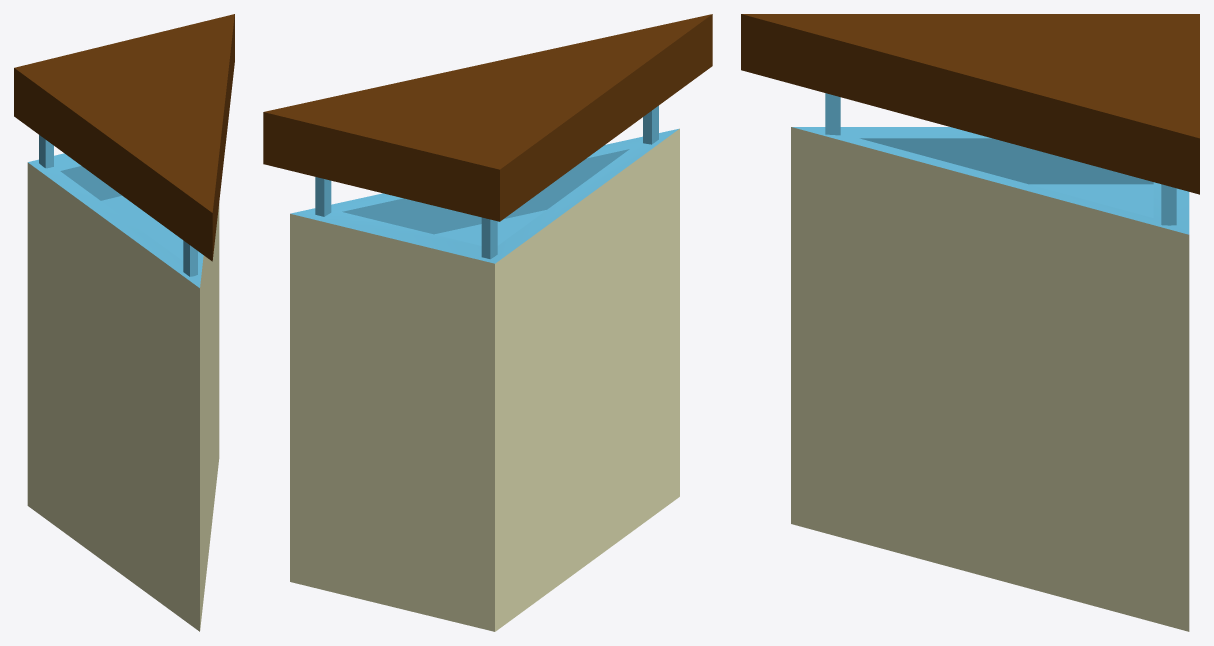
The model's file is Chimney_T5.fbx.
3 views of the same model, side by side, from view 1: azimuth 30°, elevation 25°; view 2: azimuth 150°, elevation 25°; view 3: azimuth 270°, elevation 25° (orthographic). The views are drawn at different scales.
Parts seen in each view (by area): view 1: Chimney1; view 2: Chimney1; view 3: Chimney1.
Part boxes in pixels (<box>): Chimney1: <box>14,14,234,631</box>; Chimney1: <box>263,14,712,631</box>; Chimney1: <box>741,14,1199,631</box>.
Bounding box in the file's own units: 2.86 × 5.4 × 4.45.
